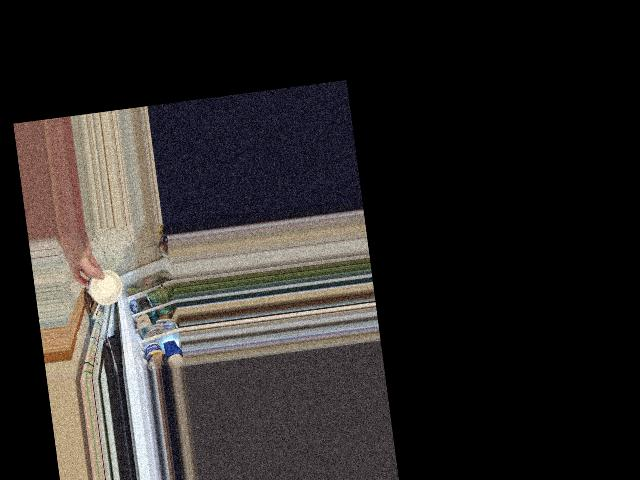cotage: (82, 265, 121, 307)
